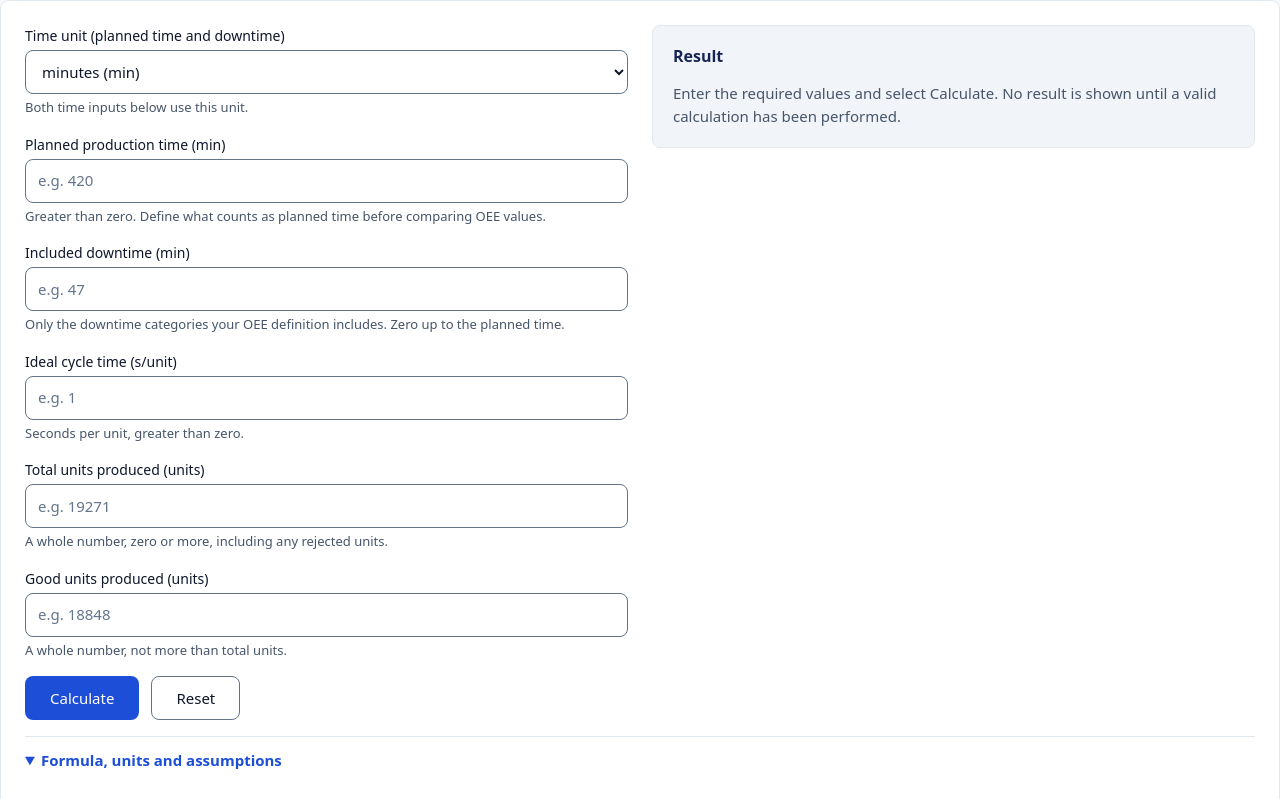
Test case: OeeCalculator › warns, without capping, when Performance exceeds 100 %
Type "420" into the field labelled "Planned production time (min)" at (326, 180), box x1=25 y1=158 x2=628 y2=202
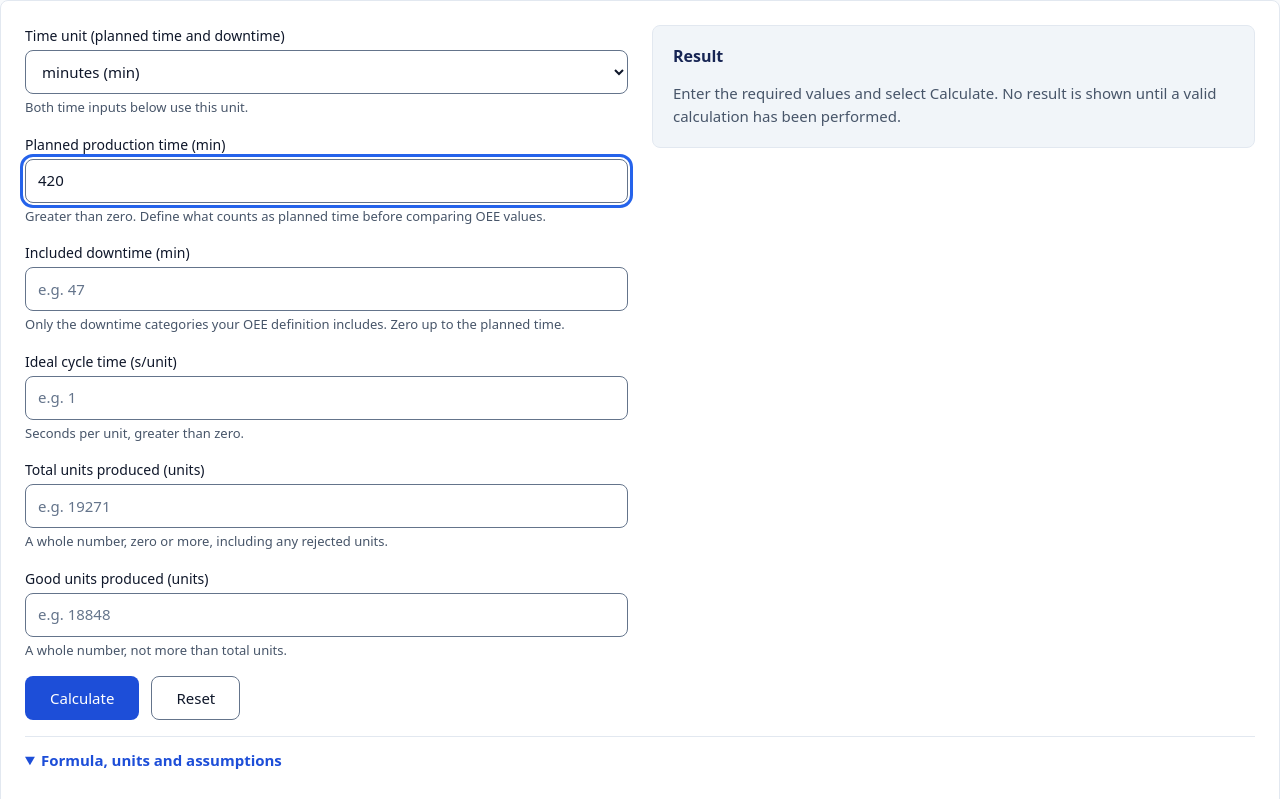
Type "47" into the field labelled "Included downtime (min)" at (326, 289), box x1=25 y1=267 x2=628 y2=311
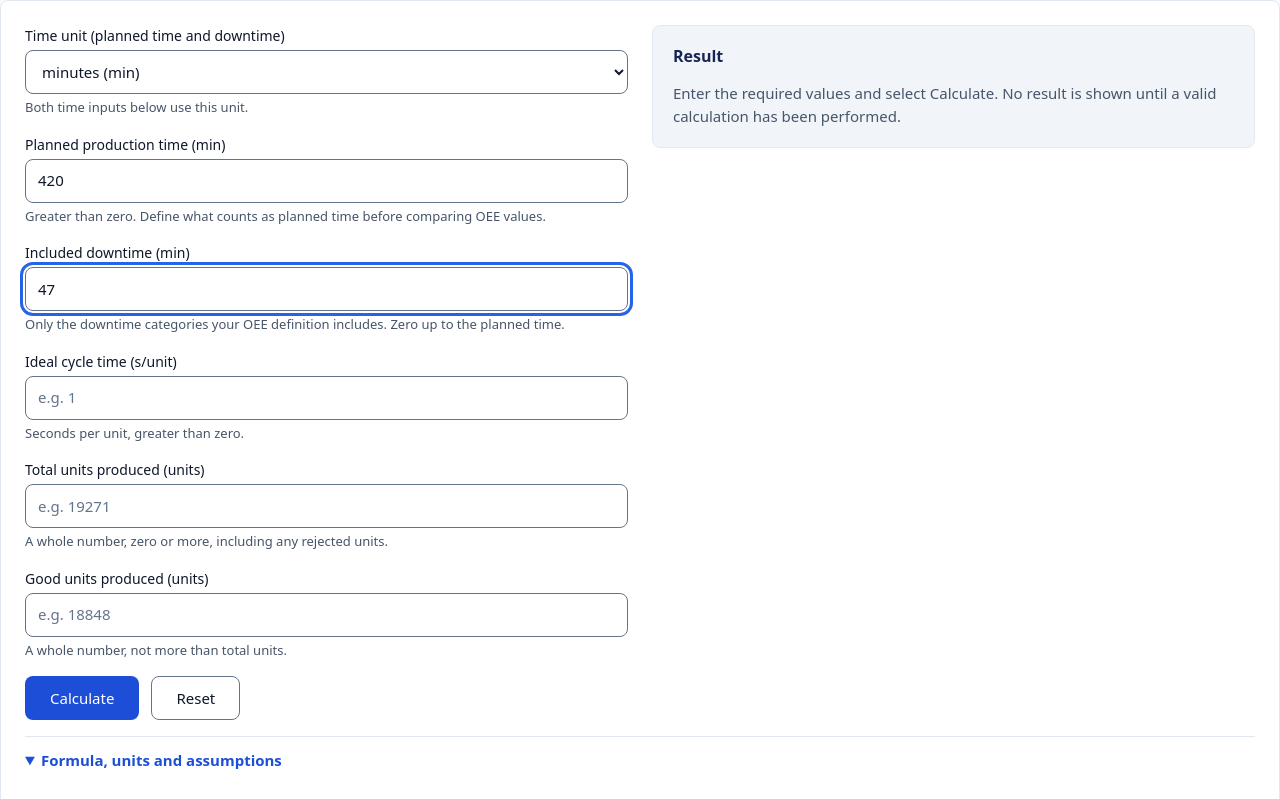
Type "2" into the field labelled "Ideal cycle time (s/unit)" at (326, 398), box x1=25 y1=376 x2=628 y2=420
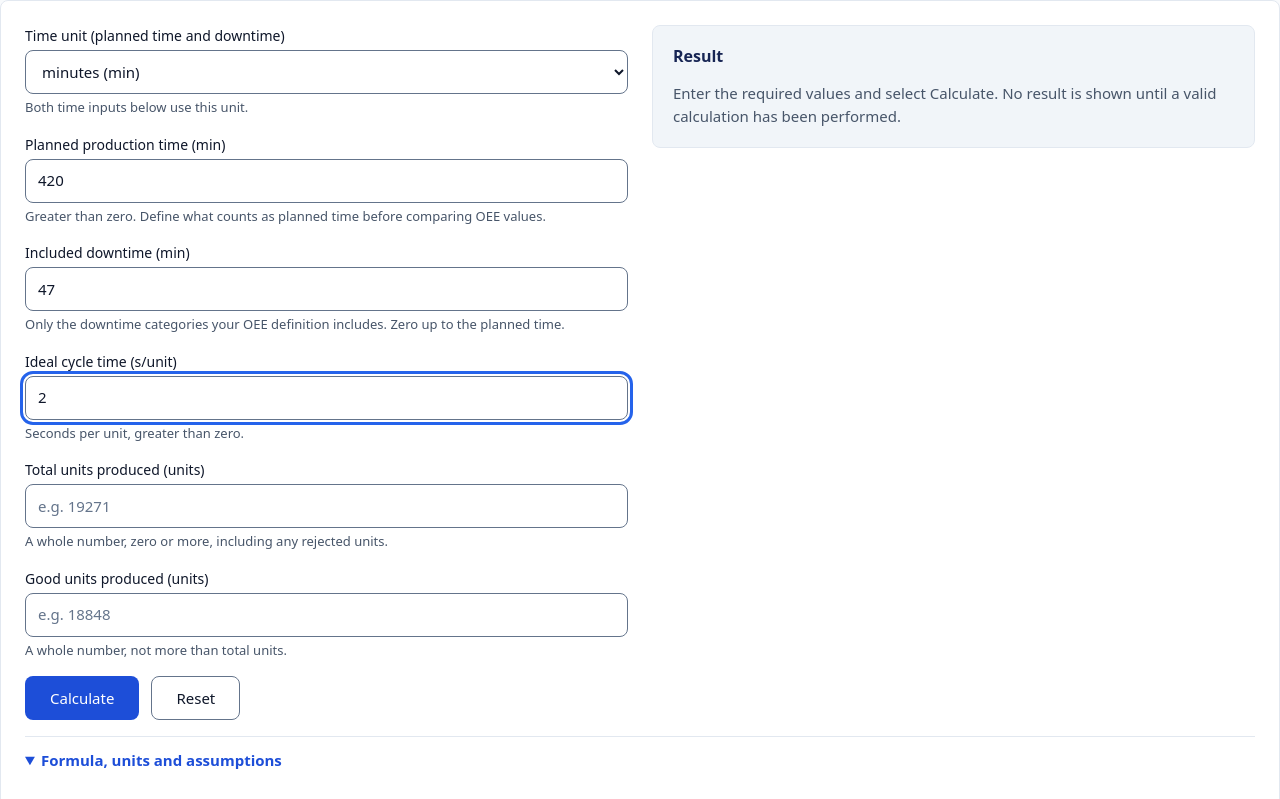
Type "19271" into the field labelled "Total units produced (units)" at (326, 506), box x1=25 y1=484 x2=628 y2=528
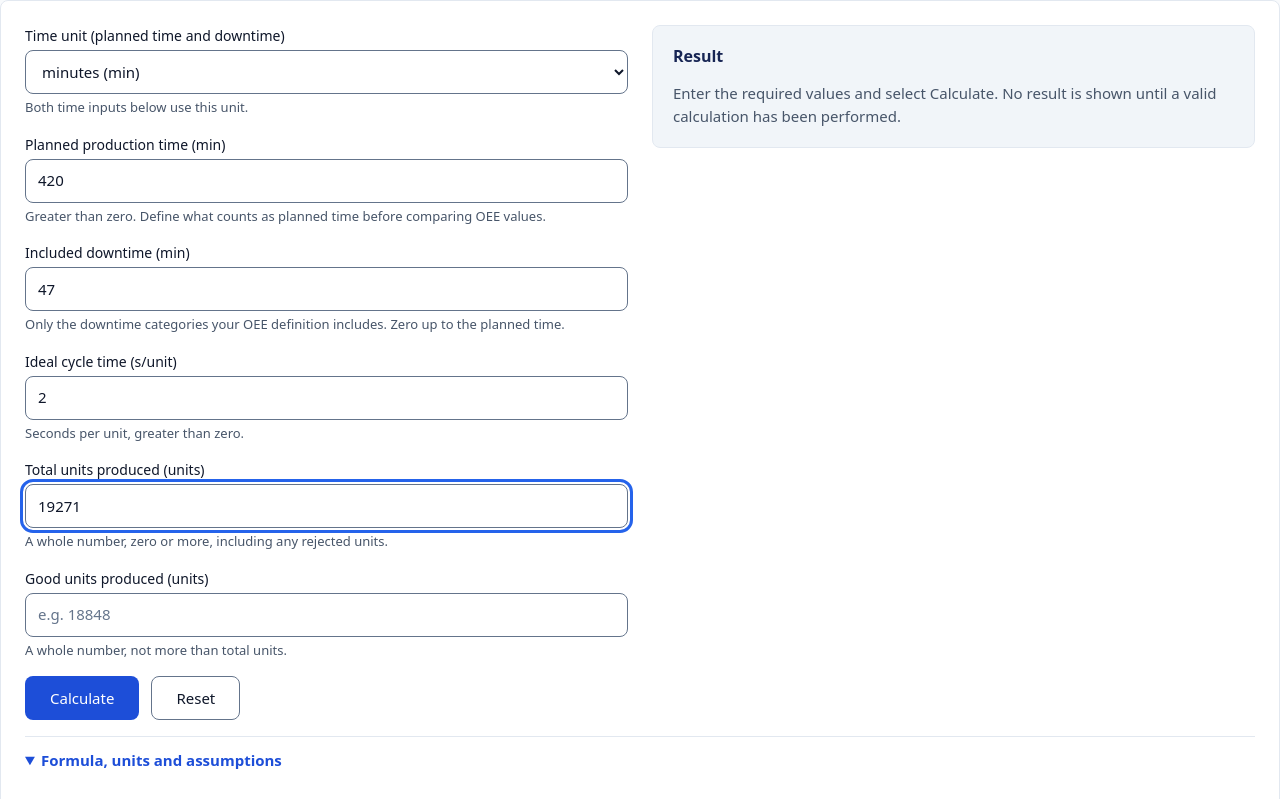
Type "18848" into the field labelled "Good units produced (units)" at (326, 614), box x1=25 y1=592 x2=628 y2=636
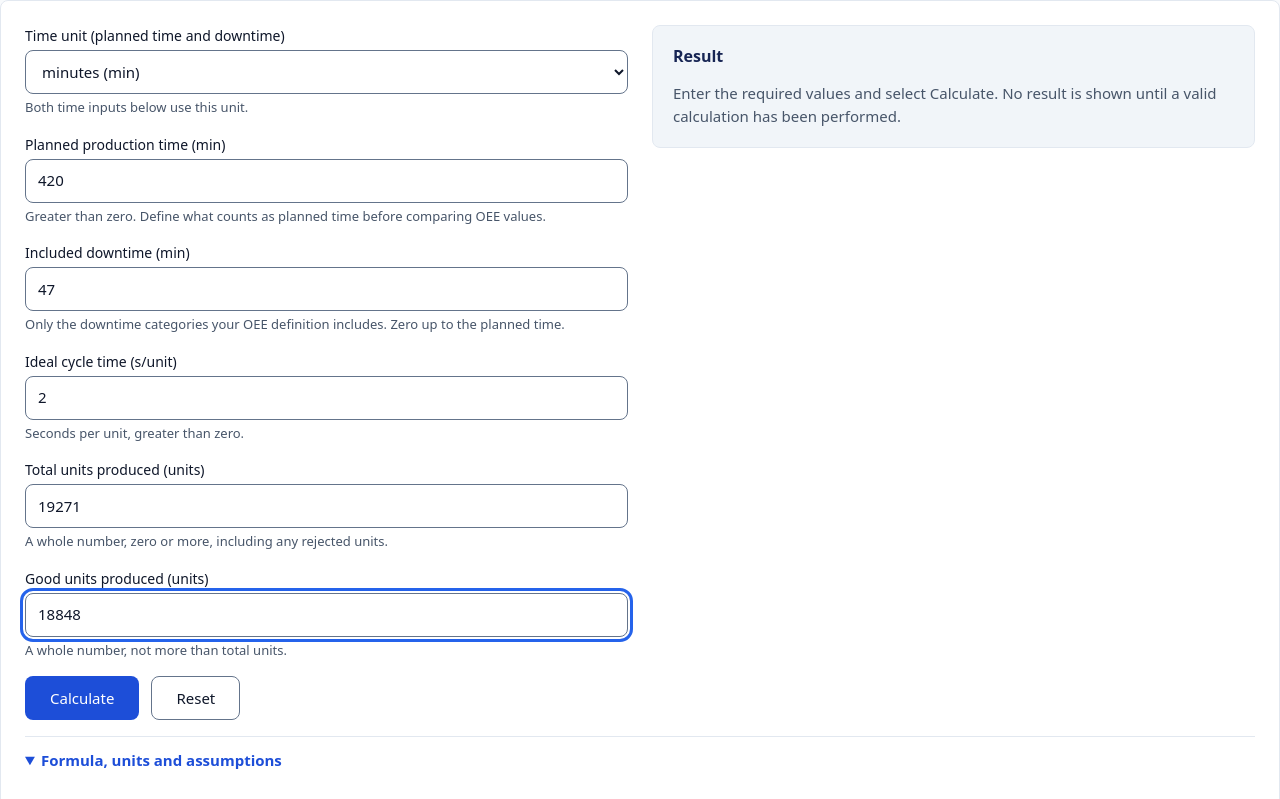
Click the button "Calculate" at (82, 698), box x1=25 y1=676 x2=139 y2=720
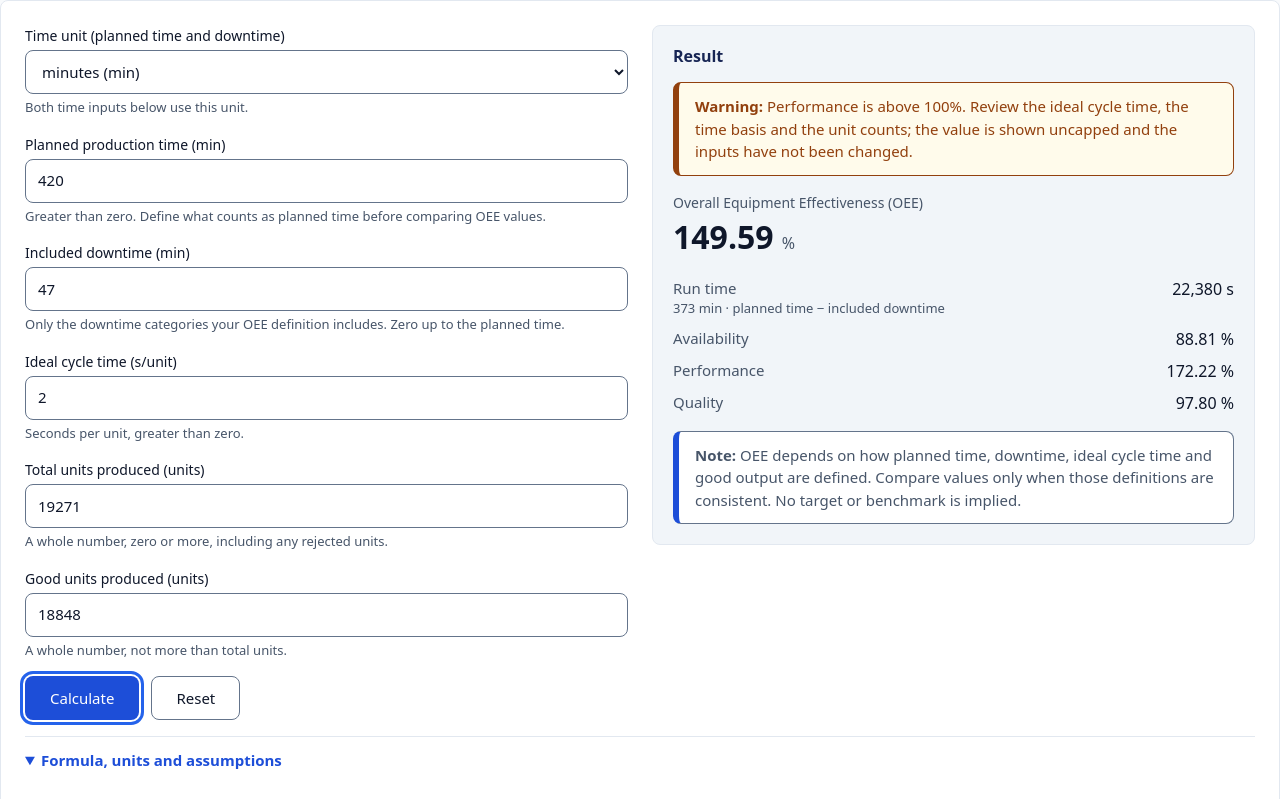
Result: the text "172.22 %" is shown at x1=1166 y1=358 x2=1234 y2=382
Result: the text "Performance is above 100%" is shown at x1=695 y1=96 x2=1189 y2=161
